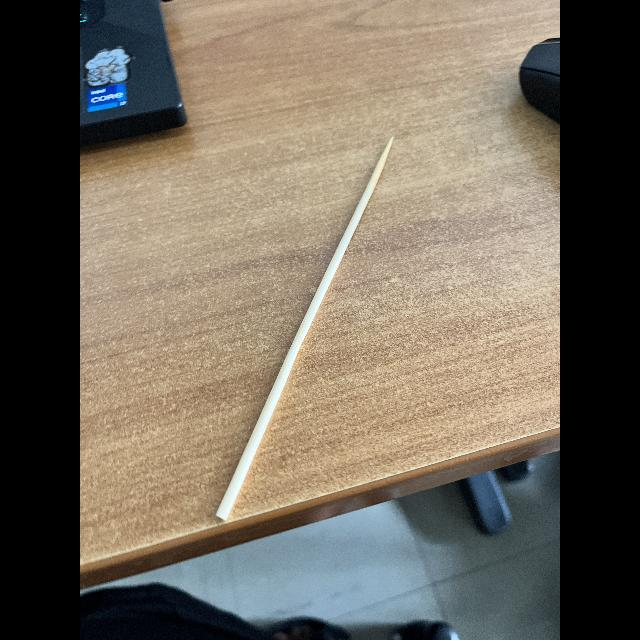stick: (195, 123, 418, 541)
